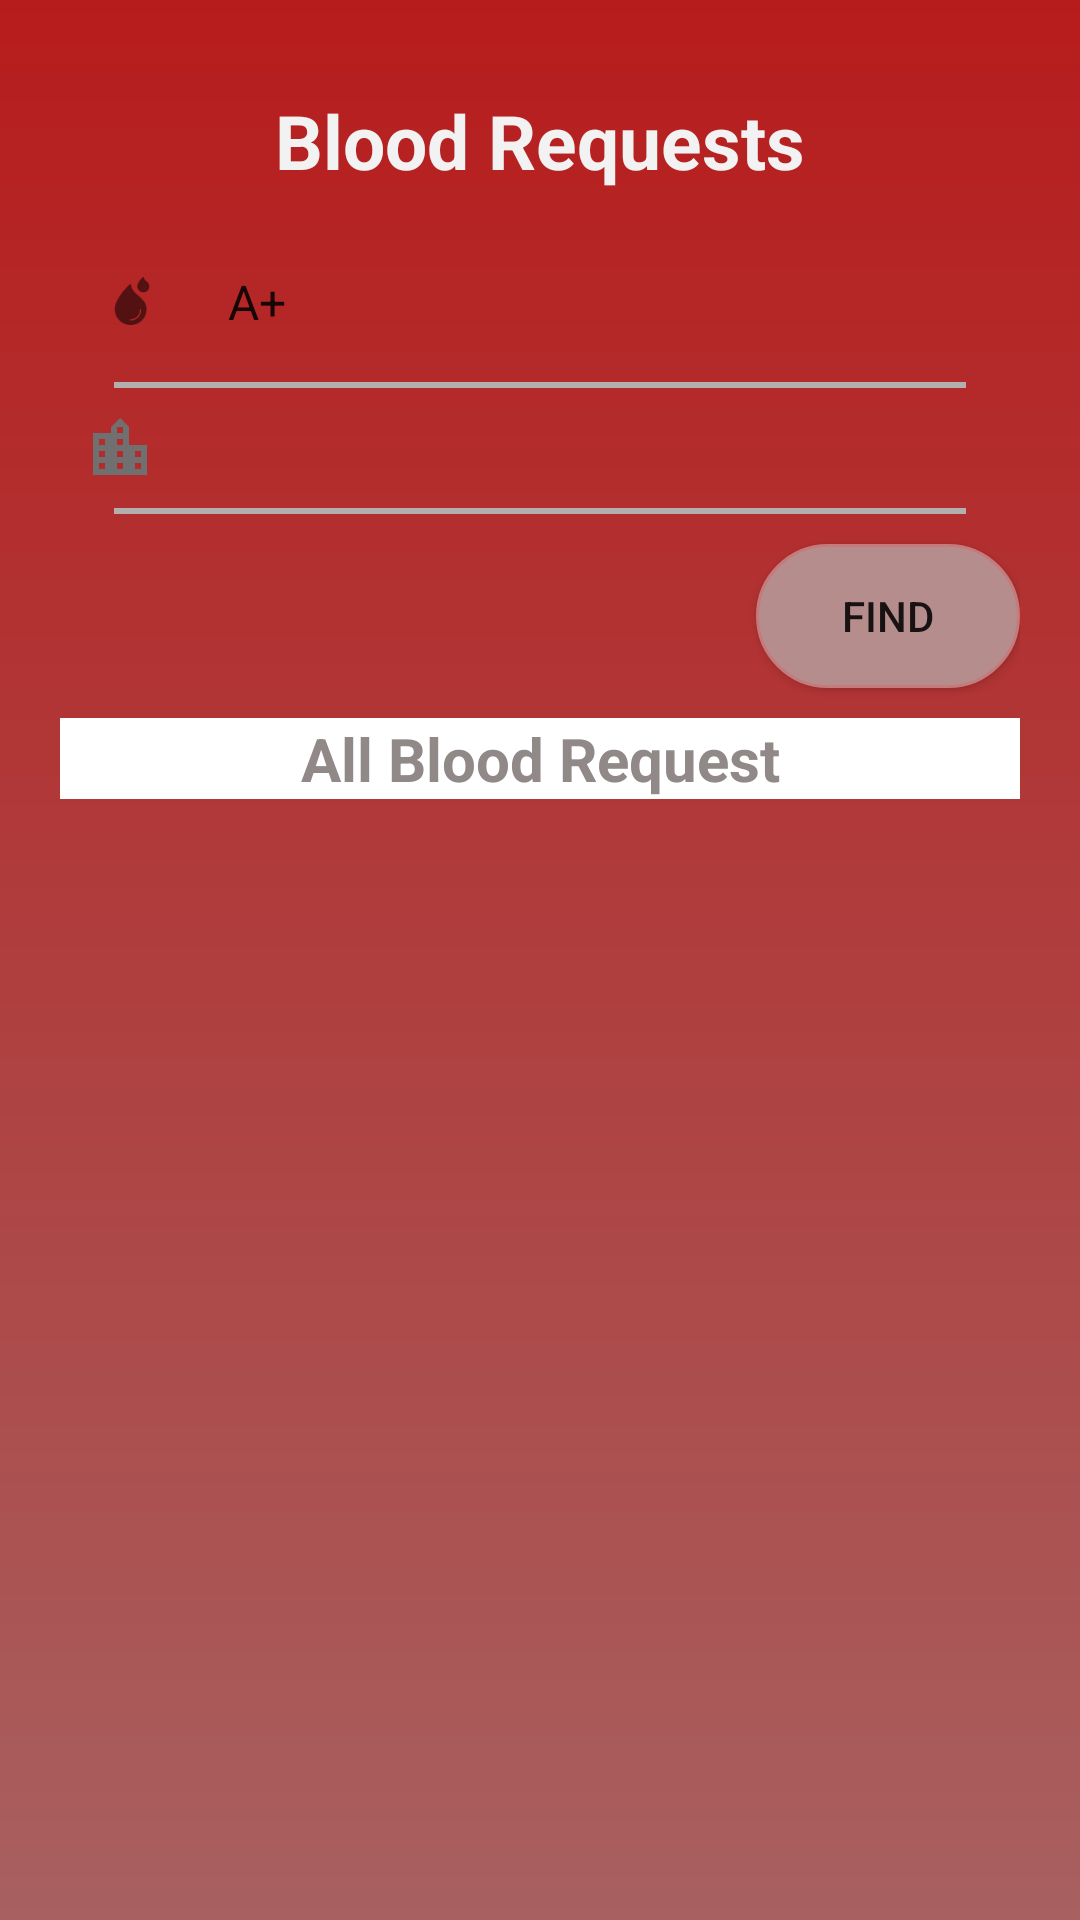

Icons on this 1080 x 1920 Android screen, each with its box as (x1, y1, x2, y2):
location city: (93, 418, 147, 475)
